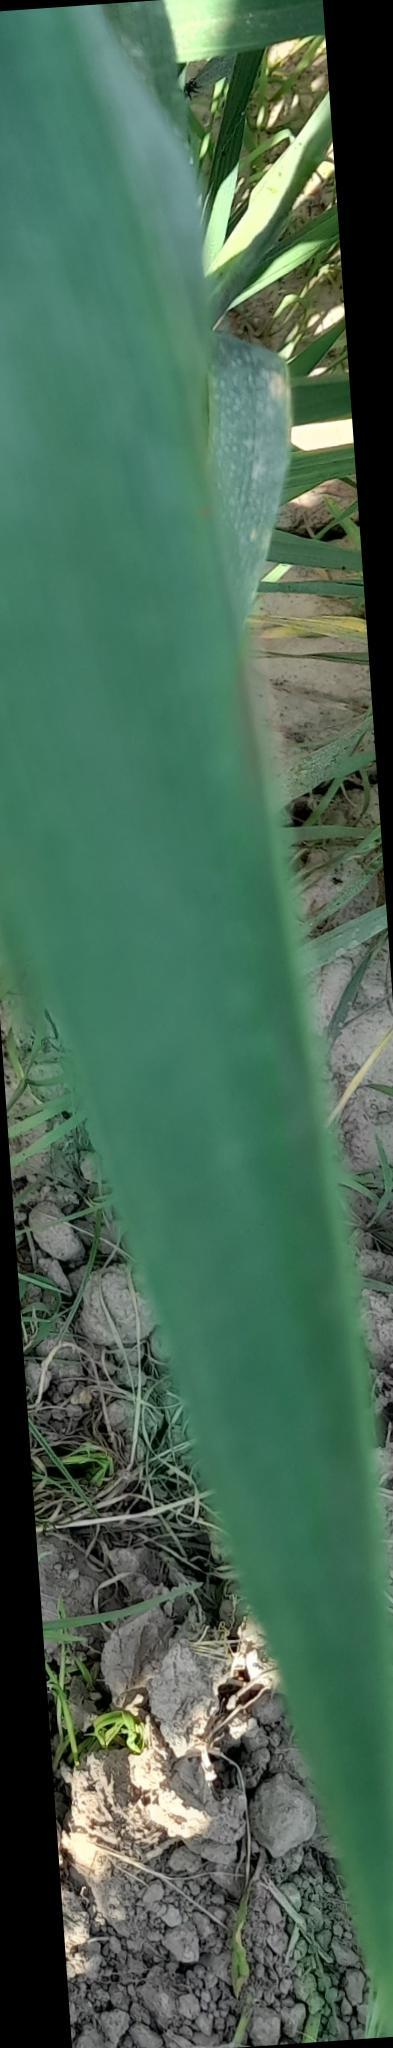Wheat: (0, 54, 148, 887), (174, 1174, 308, 1438), (69, 934, 286, 1091)
